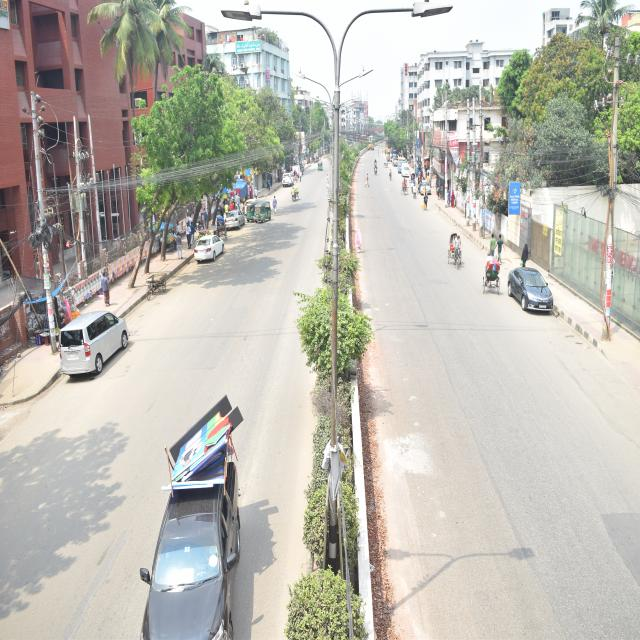car: (136, 435, 242, 640), (57, 303, 131, 385), (507, 261, 559, 317), (189, 230, 226, 264), (224, 208, 246, 233)
